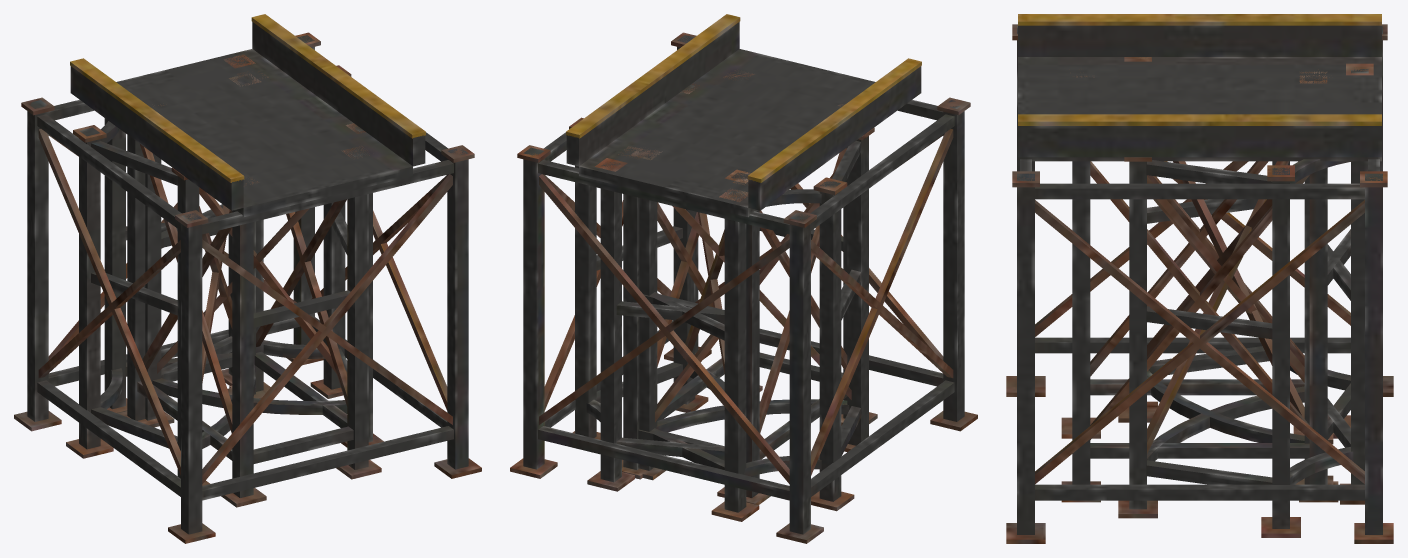
File: feConveyorStand.glb
The picture shows the model from 3 angles, left to right: view 1: azimuth 30°, elevation 25°; view 2: azimuth 150°, elevation 25°; view 3: azimuth 270°, elevation 25°; orthographic projection. The views are drawn at different scales.
Visible parts, largest first — view 1: FeStand_Junction, FeStand_Duct, FeStand_Straight, FeStand_Curve_R, FeStand_Curve_L; view 2: FeStand_Junction, FeStand_Duct, FeStand_Curve_R, FeStand_Curve_L, FeStand_Straight; view 3: FeStand_Duct, FeStand_Junction, FeStand_Curve_L, FeStand_Straight, FeStand_Curve_R.
Boxes of the visible parts, x1,y1,x2,y2 form: FeStand_Junction: (14,32,481,543); FeStand_Duct: (70,14,425,217); FeStand_Straight: (117,71,381,507); FeStand_Curve_R: (66,73,264,485); FeStand_Curve_L: (145,54,383,447); FeStand_Junction: (510,32,977,543); FeStand_Duct: (566,14,921,217); FeStand_Curve_R: (630,127,874,521); FeStand_Curve_L: (569,83,750,499); FeStand_Straight: (618,70,877,505); FeStand_Duct: (1018,14,1381,161); FeStand_Junction: (1006,24,1393,543); FeStand_Curve_L: (1118,71,1367,537); FeStand_Straight: (1061,72,1338,502); FeStand_Curve_R: (1118,57,1373,484).
Bounding box in the file's own units: 0.98 × 1.1 × 0.98.
Materials: 1 (1 with a texture image).
